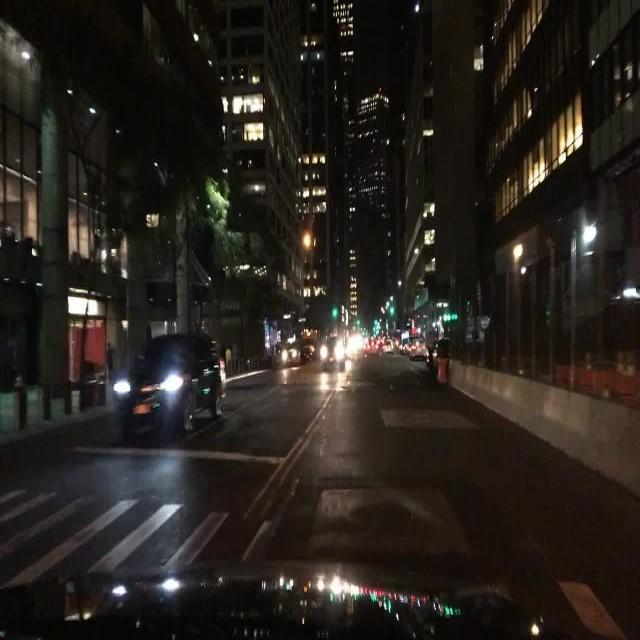normal: (113, 335, 226, 447)
